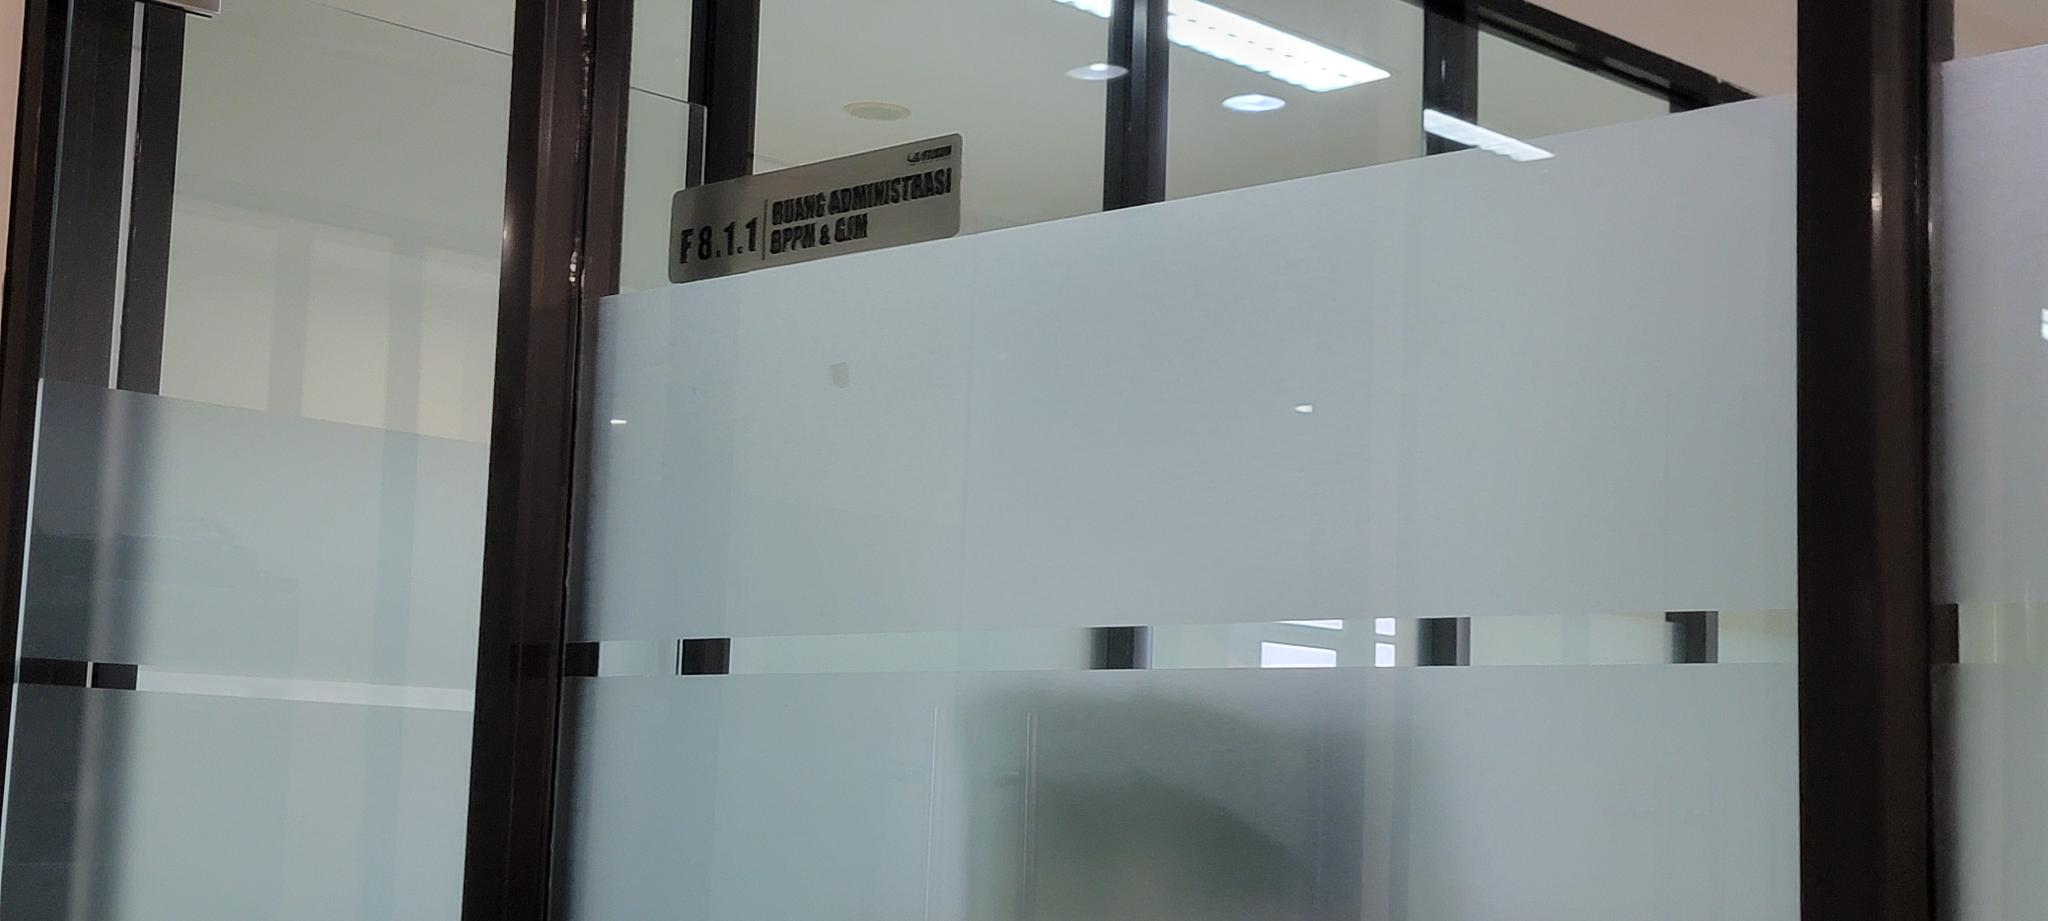plate: (667, 133, 961, 286)
